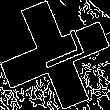L_SW: (26, 31, 84, 79)
